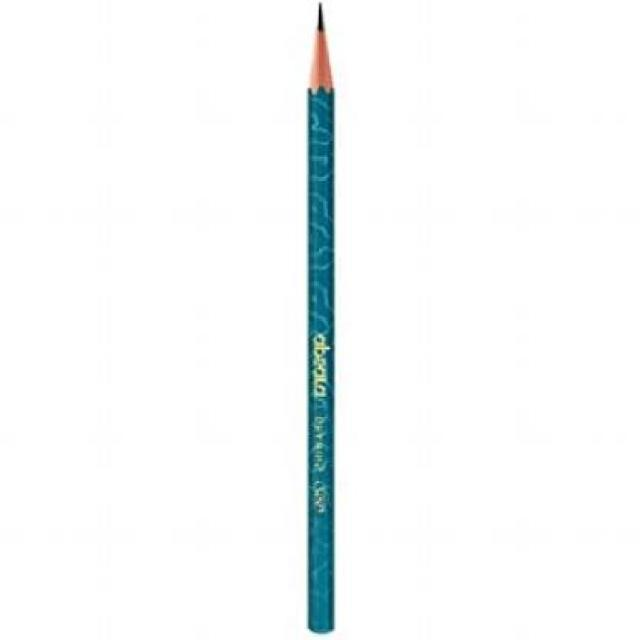pencil: (292, 2, 350, 118)
